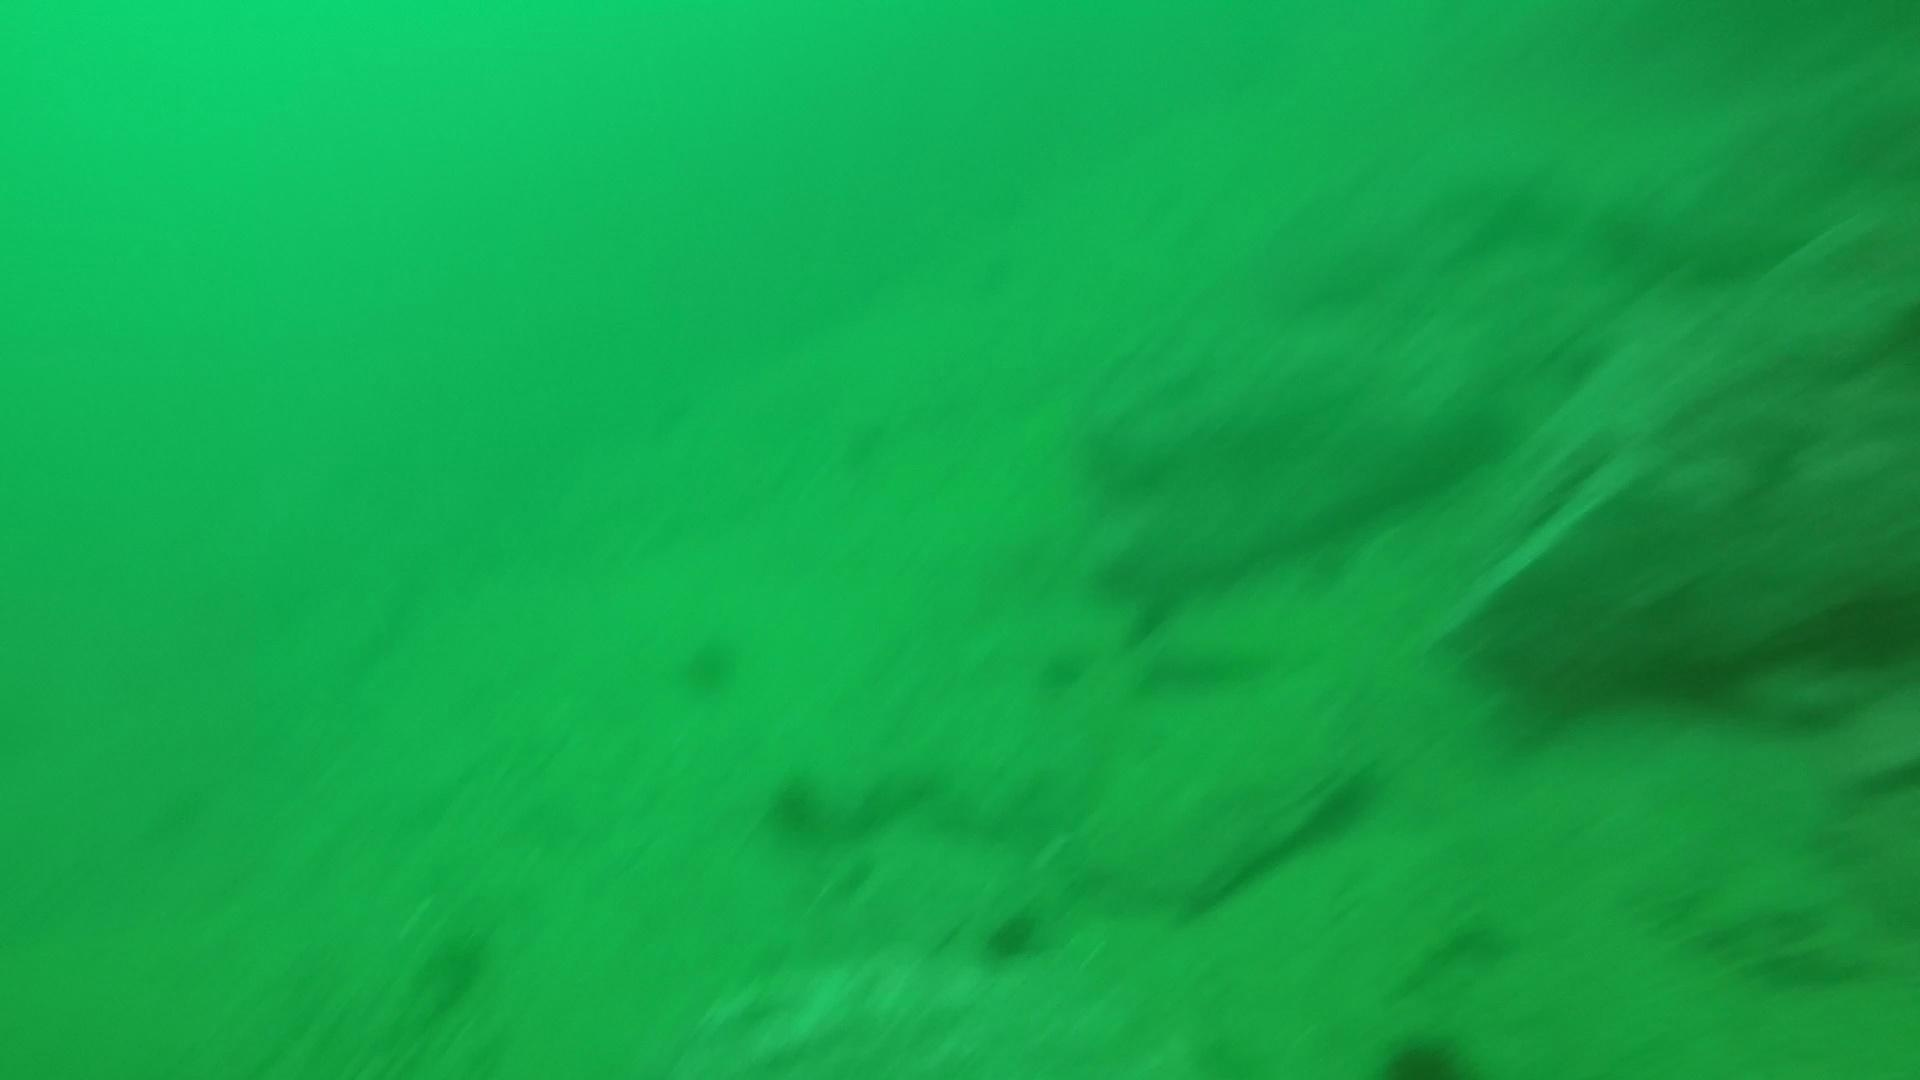echinus: (760, 767, 833, 844), (673, 629, 746, 698), (1375, 1026, 1469, 1080), (976, 903, 1048, 969)
